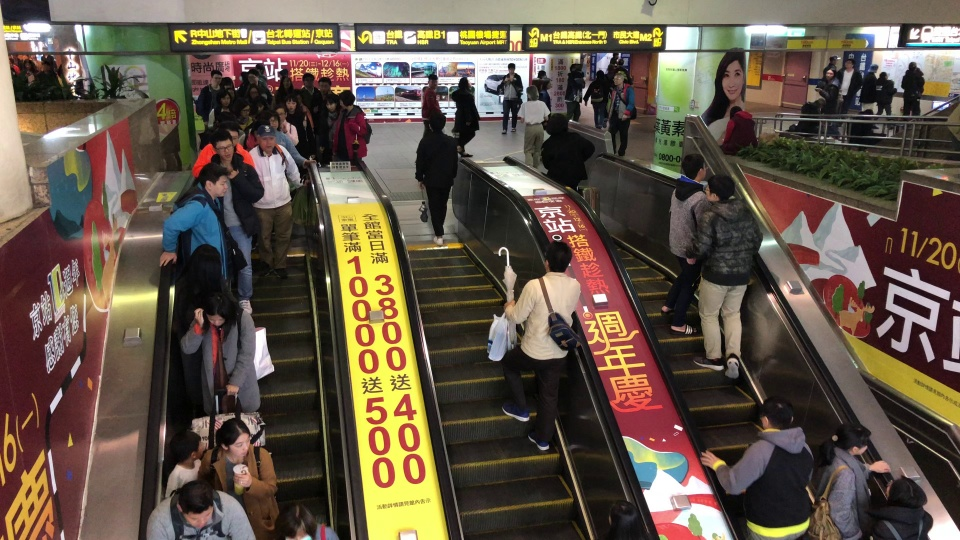person_head: (200, 282, 238, 331), (177, 479, 214, 529), (272, 501, 318, 540), (184, 243, 221, 291), (606, 499, 649, 540), (884, 475, 927, 510), (215, 417, 251, 458), (167, 428, 204, 465), (833, 422, 871, 457), (197, 162, 228, 201), (759, 396, 793, 430), (542, 240, 573, 274), (208, 128, 235, 162), (704, 174, 735, 202), (680, 152, 707, 181), (255, 124, 277, 154), (217, 120, 239, 148), (545, 112, 570, 135), (250, 118, 271, 142), (262, 110, 281, 132), (231, 97, 251, 117), (428, 111, 446, 132), (338, 90, 355, 109), (283, 93, 299, 112), (215, 89, 231, 107), (323, 93, 338, 111), (273, 103, 287, 122), (525, 84, 540, 101), (252, 96, 267, 112), (210, 69, 222, 87), (278, 75, 293, 89), (220, 76, 234, 91), (318, 76, 331, 92), (302, 72, 315, 88), (728, 105, 742, 119), (457, 76, 472, 89), (246, 68, 259, 83), (861, 107, 874, 121), (246, 85, 260, 98), (427, 74, 438, 90), (611, 73, 624, 86), (292, 88, 303, 103), (813, 97, 826, 109), (824, 68, 836, 81), (40, 60, 51, 74), (843, 58, 856, 69), (867, 63, 878, 74), (907, 60, 917, 72), (255, 63, 265, 75), (507, 62, 516, 75), (278, 68, 288, 79), (595, 69, 604, 81), (23, 58, 32, 70), (536, 69, 546, 79), (239, 71, 248, 82), (878, 71, 888, 80), (828, 55, 838, 64), (569, 63, 577, 74), (616, 57, 624, 67), (606, 63, 614, 73), (574, 63, 582, 72), (580, 52, 587, 62), (42, 45, 49, 55), (9, 56, 15, 67), (29, 52, 37, 59), (612, 52, 619, 59)
person_vbox: (499, 240, 583, 451), (699, 396, 813, 540), (684, 174, 763, 380), (173, 243, 239, 416), (180, 282, 262, 414), (208, 128, 265, 316), (158, 162, 233, 300), (196, 417, 280, 540), (659, 152, 712, 337), (246, 124, 309, 279), (813, 421, 891, 540), (144, 479, 258, 540), (414, 110, 458, 246), (862, 474, 934, 540), (539, 111, 595, 193), (191, 121, 256, 179), (262, 110, 317, 168), (163, 428, 204, 499), (518, 83, 551, 169), (272, 501, 341, 540), (332, 90, 368, 164), (605, 73, 635, 157), (450, 76, 480, 158), (283, 93, 316, 158), (719, 104, 758, 156), (195, 69, 223, 139), (835, 58, 863, 127), (814, 67, 841, 135), (498, 62, 523, 135), (846, 107, 887, 148), (871, 71, 899, 130), (582, 68, 607, 130), (318, 93, 339, 166), (900, 60, 925, 116), (794, 97, 829, 136), (420, 74, 441, 138), (564, 62, 585, 124), (532, 69, 552, 131), (237, 118, 272, 153), (291, 89, 314, 138), (207, 89, 234, 130), (270, 75, 301, 110), (273, 103, 298, 146), (858, 63, 879, 112), (246, 68, 272, 103), (601, 62, 614, 129), (299, 72, 320, 113), (231, 97, 254, 130), (34, 59, 60, 87), (613, 57, 632, 85), (316, 76, 335, 104), (571, 63, 584, 102), (40, 45, 58, 71), (21, 59, 38, 84), (822, 55, 838, 78), (234, 71, 248, 96), (255, 62, 267, 86), (9, 56, 20, 75), (29, 52, 40, 70), (609, 51, 620, 67)
